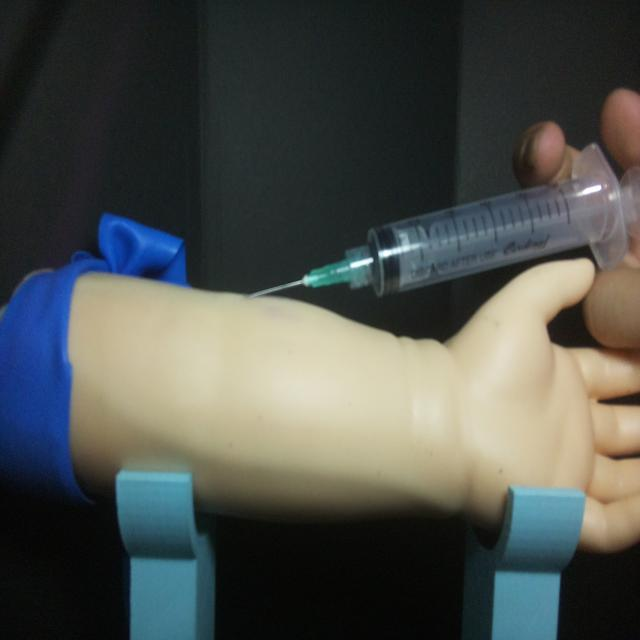20deg: (242, 140, 636, 306)
